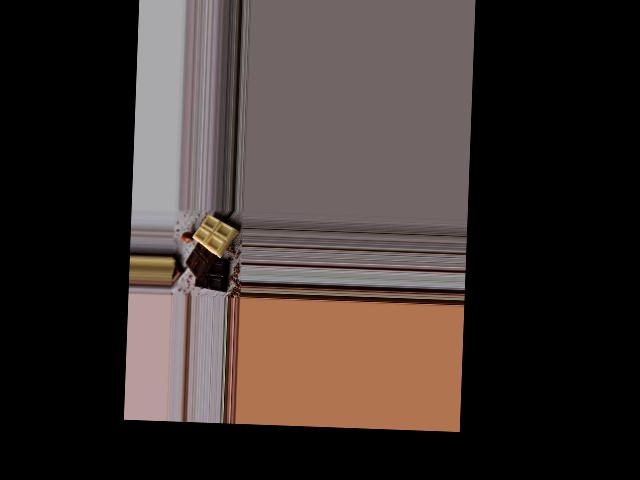chocolate: (184, 214, 234, 295)
